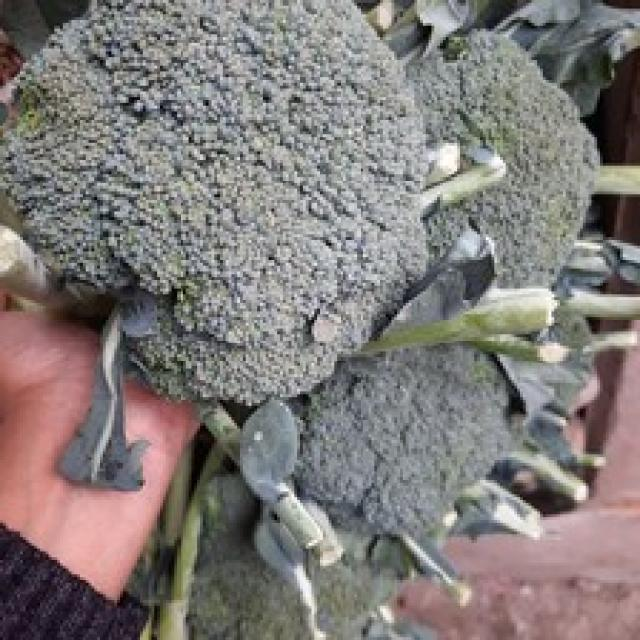Broccoli: (0, 0, 598, 537), (192, 475, 308, 639), (316, 558, 389, 640), (316, 560, 388, 637)
